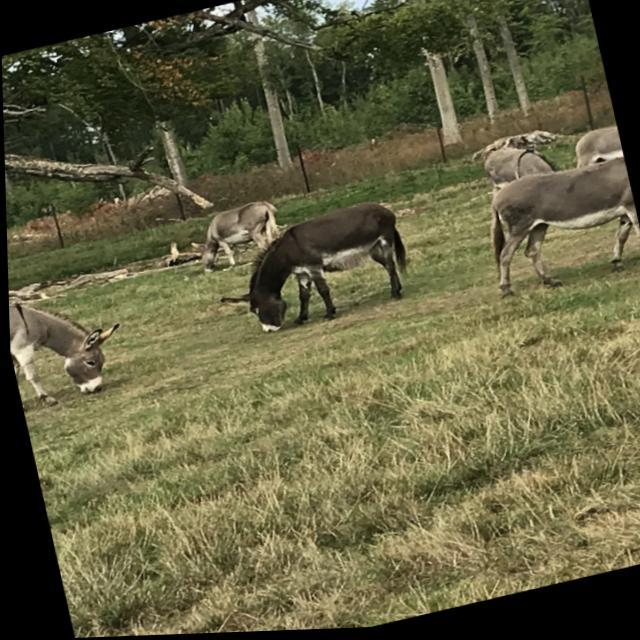Donkey: (203, 194, 419, 346), (472, 155, 640, 305), (6, 275, 136, 413), (182, 196, 289, 277), (480, 138, 566, 198), (569, 127, 623, 173)
